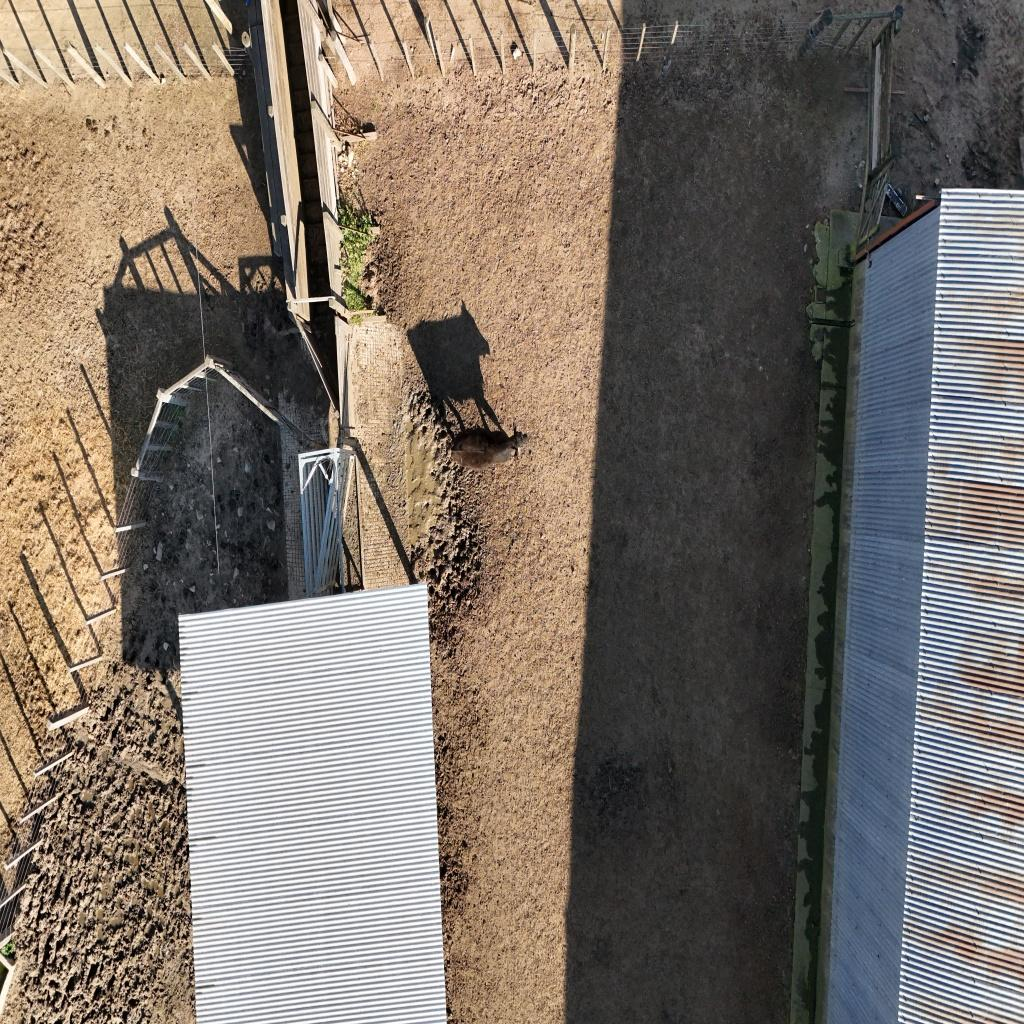cow: (438, 420, 539, 474)
